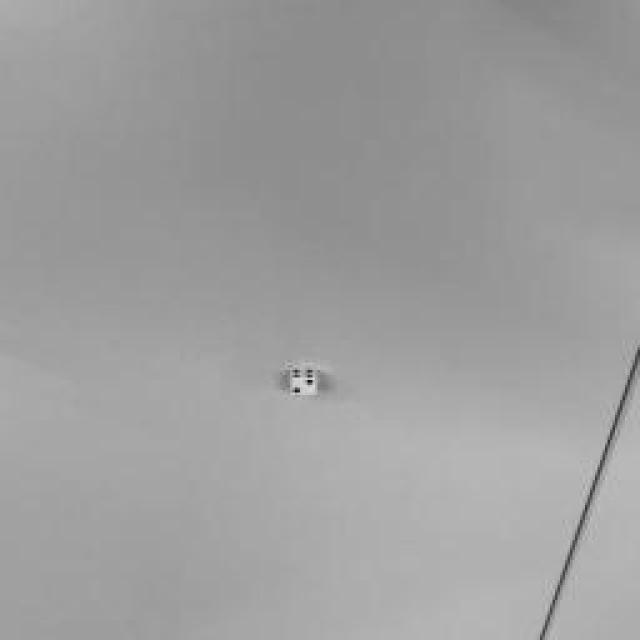dice_2: (290, 377, 315, 395)
